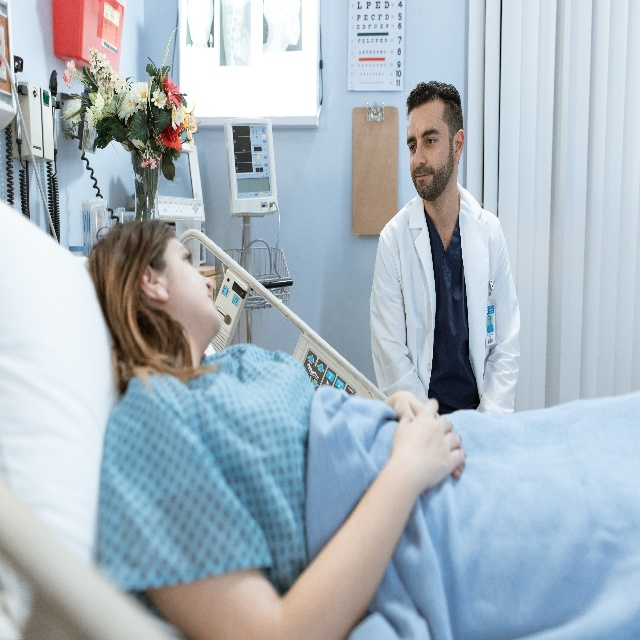Sin_guantes: (391, 396, 467, 488), (393, 388, 463, 480)
